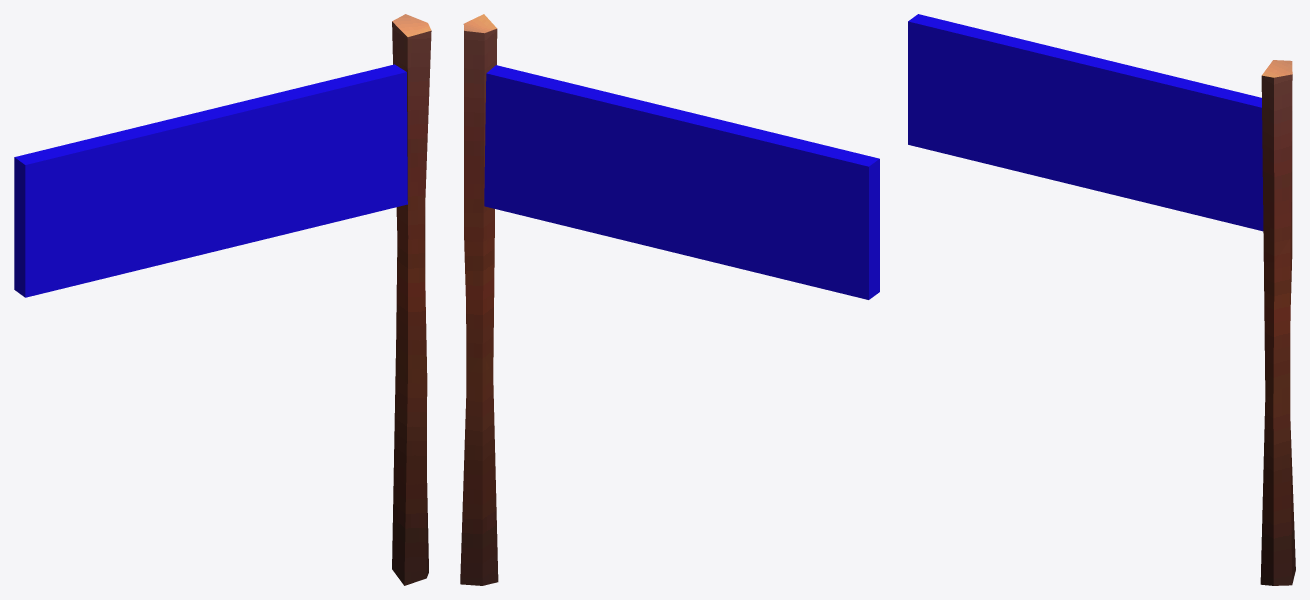
The model's file is Flag.FBX.
3 renders of one model, left to right at view 1: azimuth 30°, elevation 25°; view 2: azimuth 150°, elevation 25°; view 3: azimuth 330°, elevation 25°, orthographic. The views are drawn at different scales.
Parts seen in each view (by area): view 1: Flag; view 2: Flag; view 3: Flag.
Part boxes in pixels (x1,y1,x2,y2): Flag: (14,14,431,585); Flag: (460,14,879,585); Flag: (908,14,1295,585).
Size of the model in its own units: 0.4215 by 0.5479 by 0.045.
